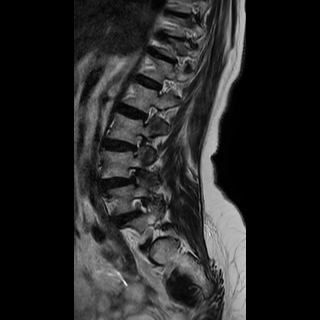RFS0: (136, 98, 162, 128)
RFS1: (125, 194, 155, 222)
RFS3: (119, 161, 145, 192)
